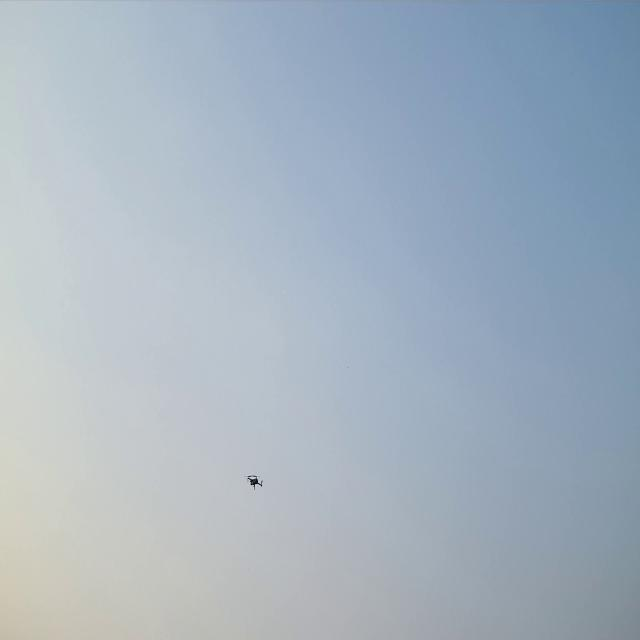UAV: (243, 470, 266, 490)
